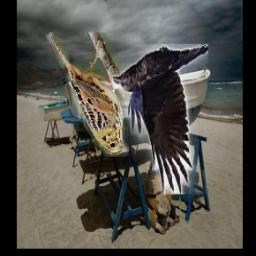Crow: (113, 44, 209, 194)
Sparrow: (46, 33, 130, 158)
